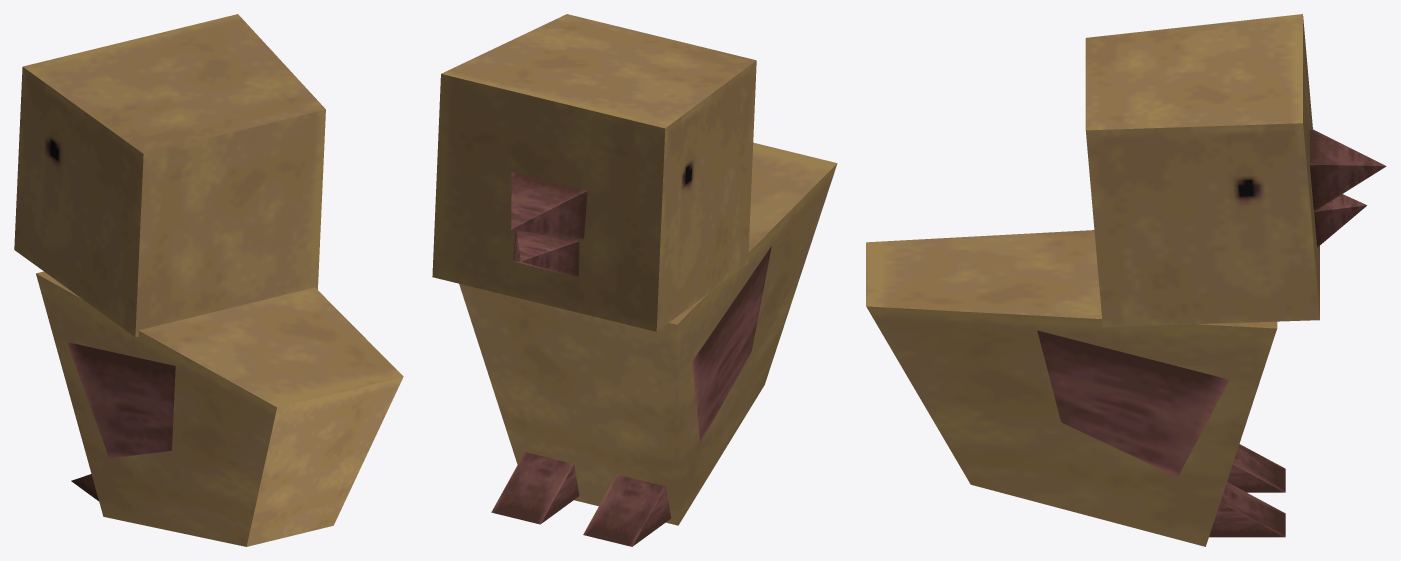
Rendered from gmicon.ico.obj.
3 views of the same model, side by side, from view 1: azimuth 30°, elevation 25°; view 2: azimuth 150°, elevation 25°; view 3: azimuth 270°, elevation 25° (orthographic). The views are drawn at different scales.
Bounding box in the file's own units: 2.01 × 3.79 × 4.05.
Materials: 1 (1 with a texture image).
